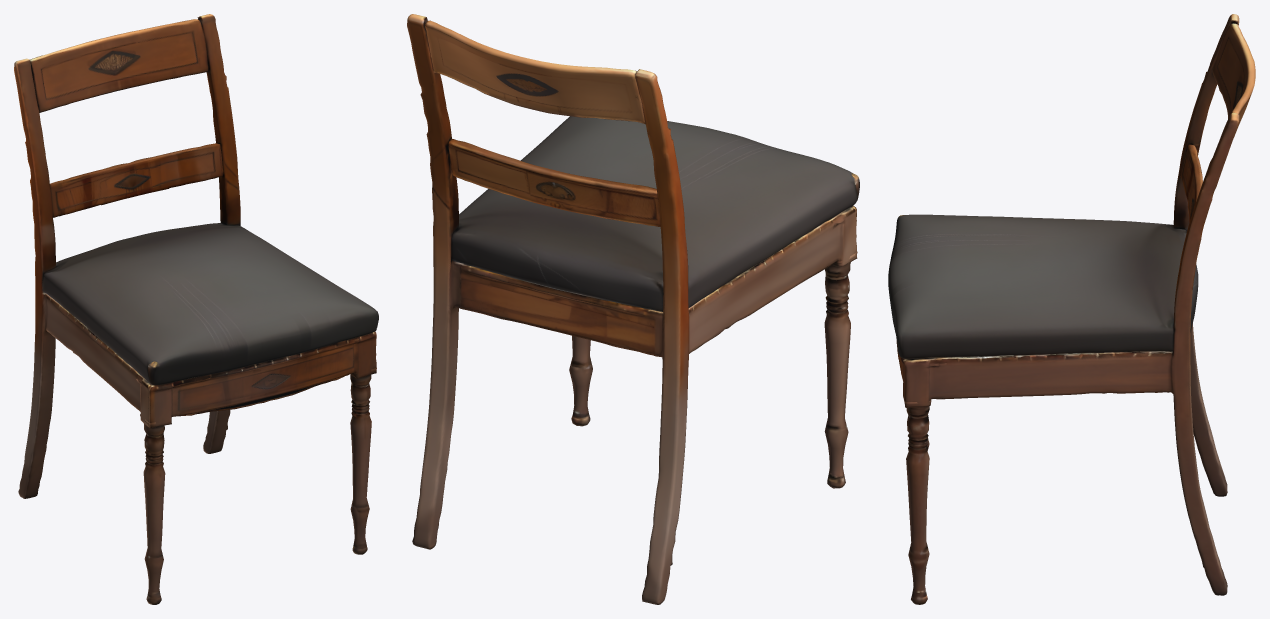
3 views of the same model, side by side, from view 1: azimuth 30°, elevation 25°; view 2: azimuth 150°, elevation 25°; view 3: azimuth 270°, elevation 25° (orthographic). The views are drawn at different scales.
Visible parts, largest first — view 1: root.1, root.0, root.3, root.4, root.5, root.6, root.2; view 2: root.0, root.1, root.3, root.4, root.5, root.6; view 3: root.1, root.0, root.6, root.3, root.4.
Part boxes in pixels (x1,y1,x2,y2): root.1: [43, 223, 378, 385]; root.0: [14, 14, 376, 498]; root.3: [30, 19, 208, 112]; root.4: [50, 143, 223, 217]; root.5: [140, 414, 165, 604]; root.6: [350, 367, 376, 554]; root.2: [182, 376, 344, 415]; root.0: [407, 14, 857, 604]; root.1: [451, 116, 859, 311]; root.3: [424, 20, 645, 124]; root.4: [448, 138, 660, 226]; root.5: [824, 251, 857, 488]; root.6: [569, 335, 592, 426]; root.1: [888, 214, 1198, 359]; root.0: [896, 14, 1239, 595]; root.6: [904, 399, 931, 604]; root.3: [1212, 23, 1255, 136]; root.4: [1180, 144, 1202, 222].
Bounding box in the file's own units: 0.4456 × 0.813 × 0.5623.
7 materials, 7 textured.
